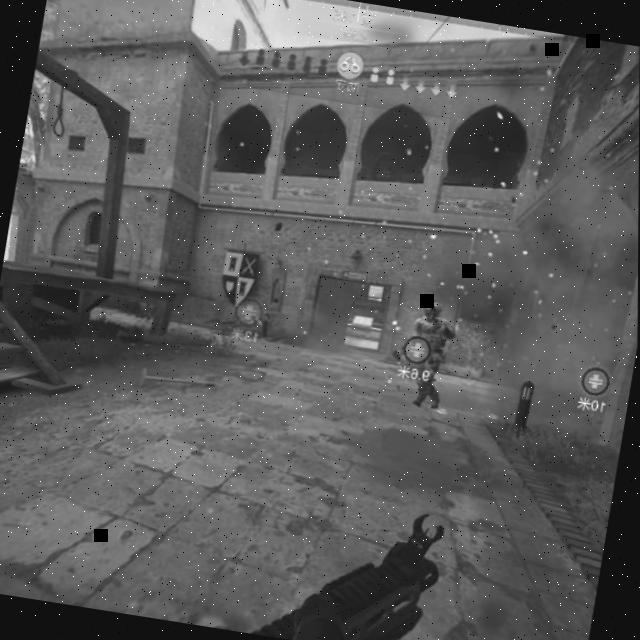MW2_body: (403, 302, 460, 412)
